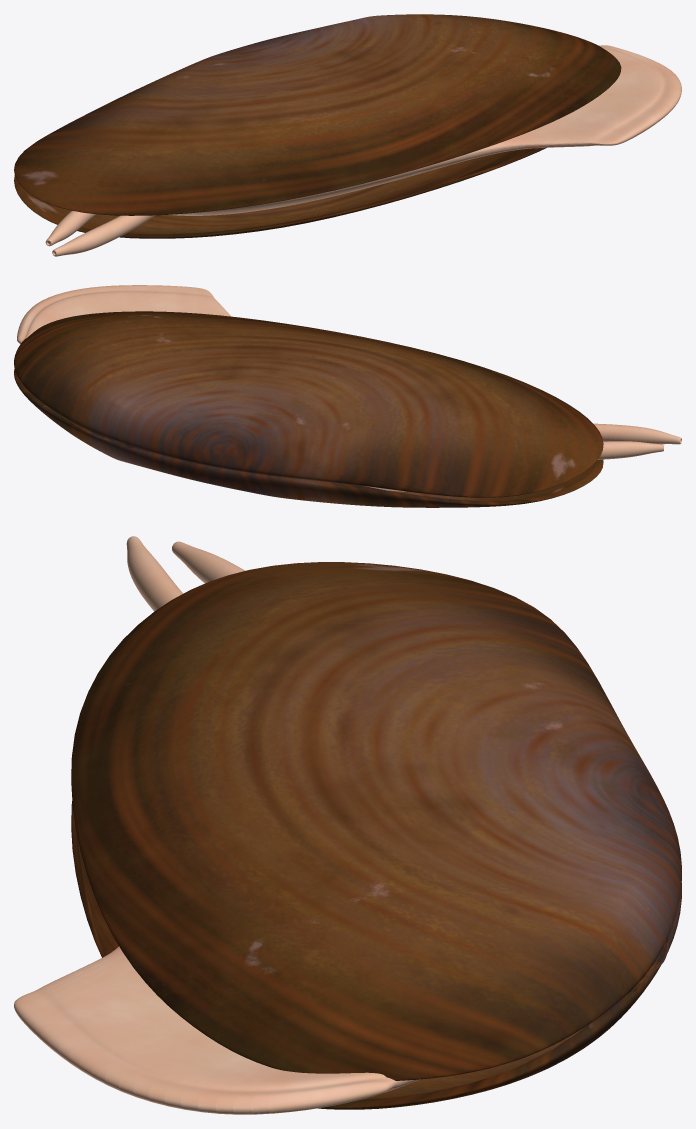
File: bay.fbx
3 renders of one model, top to bottom at view 1: azimuth 30°, elevation 25°; view 2: azimuth 150°, elevation 25°; view 3: azimuth 270°, elevation 25°, orthographic. The views are drawn at different scales.
Visible parts, largest first — view 1: Plane, Plane.001; view 2: Plane, Plane.001; view 3: Plane, Plane.001.
Part boxes in pixels (x1,y1,x2,y2): Plane: (14,14,621,238); Plane.001: (45,45,681,256); Plane: (14,311,603,507); Plane.001: (17,285,681,491); Plane: (71,562,681,1109); Plane.001: (14,536,420,1114).
Bounding box in the file's own units: 405 × 60.92 × 199.
1 material, 1 textured.
